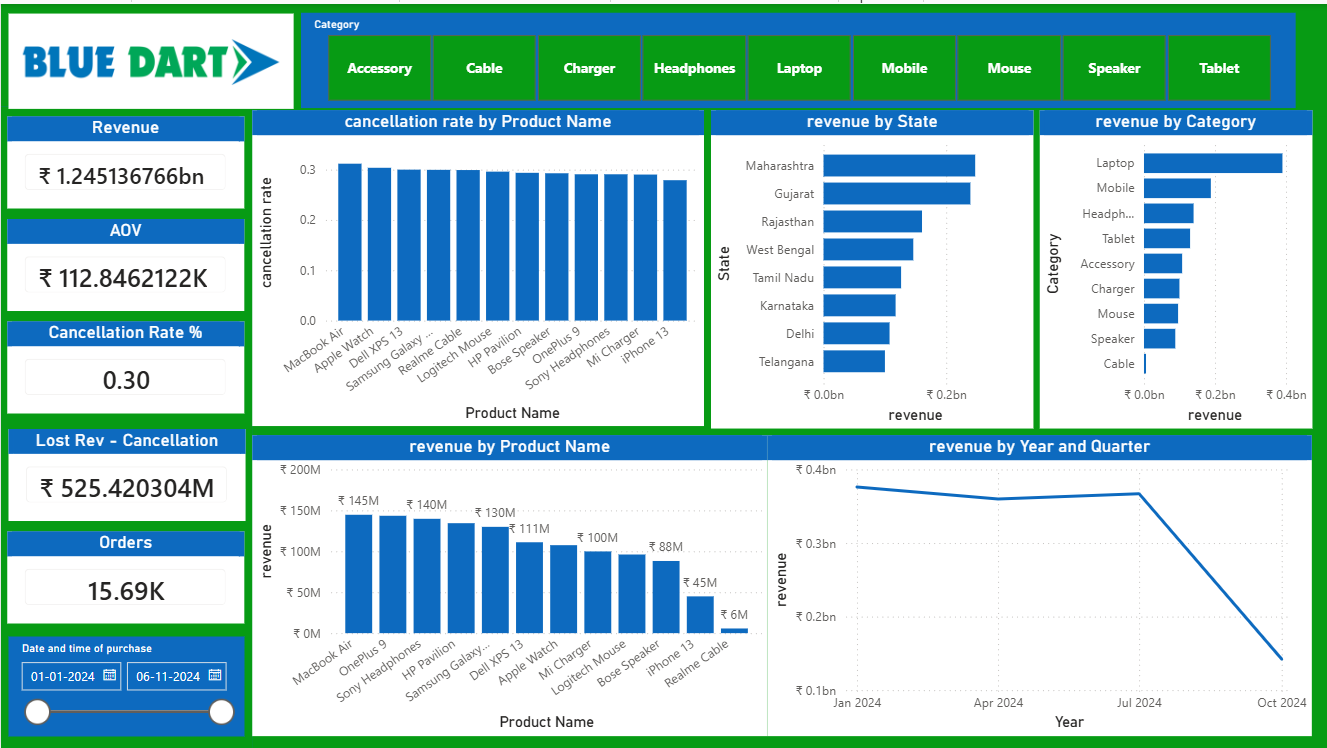

The page's visual inventory and layout, read from the dashboard file:
{"tool":"powerbi","page":{"name":"Page 1","canvas":[1280,720],"ordinal":0},"visuals":[{"type":"shape","box":[0,0,1280,108.6],"z":0},{"type":"shape","box":[0,98.8,242.5,621.2],"z":1000},{"type":"columnChart","fields":{"Category":["Products.Product Name"],"Y":["Table.revenue"]},"box":[242.9,415.7,497.1,290],"z":2000},{"type":"barChart","fields":{"Category":["Products.Category"],"Y":["Table.revenue"]},"box":[1002.9,102.9,262.9,307.1],"z":3000},{"type":"lineChart","fields":{"Y":["Table.revenue"],"Category":["Orders.Date and time of purchase.Variation.Date Hierarchy.Year","Orders.Date and time of purchase.Variation.Date Hierarchy.Quarter","Orders.Date and time of purchase.Variation.Date Hierarchy.Month","Orders.Date and time of purchase.Variation.Date Hierarchy.Day"]},"box":[740,415.7,525.7,290],"z":4000},{"type":"barChart","fields":{"Category":["Customers.State"],"Y":["Table.revenue"]},"box":[685.7,102.9,311.4,307.1],"z":5000},{"type":"slicer","fields":{"Values":["Products.Category"]},"box":[290,8,960,92],"z":6000},{"type":"cardVisual","title":"Revenue","fields":{"Data":["Table.revenue"]},"box":[6.2,108.8,228.8,88.8],"z":7000},{"type":"image","box":[6.7,5.6,275.6,97.8],"z":8000},{"type":"cardVisual","title":"AOV","fields":{"Data":["Table.AOV"]},"box":[6.2,207.5,228.8,88.8],"z":9000},{"type":"cardVisual","title":"Cancellation Rate %","fields":{"Data":["Table.cancellation rate"]},"box":[6.2,306.2,228.8,88.8],"z":10000},{"type":"cardVisual","title":"Lost Rev - Cancellation","fields":{"Data":["Table.lost_rev_cancellation"]},"box":[7.5,410,228.8,88.8],"z":11000},{"type":"cardVisual","title":"Orders","fields":{"Data":["CountNonNull(Orders.OrderID)"]},"box":[6.2,508.8,228.8,88.8],"z":12000},{"type":"slicer","fields":{"Values":["Orders.Date and time of purchase"]},"box":[7.1,610,227.1,95.7],"z":13000},{"type":"clusteredColumnChart","fields":{"Category":["Products.Product Name"],"Y":["Table.cancellation rate"]},"box":[242.5,102.5,436.2,305],"z":14000}]}

Visuals, with their boxes in screenshot pixels (x1, y1, x2, y2), scaled from the page's 1280x720 canvas onto the 1327x748 screenshot:
shape: [0,0,1326,113]
shape: [0,103,251,747]
columnChart - Products.Product Name x Table.revenue: [252,432,767,733]
barChart - Products.Category x Table.revenue: [1040,107,1312,426]
lineChart - Table.revenue x Orders.Date and time of purchase.Variation.Date Hierarchy.Year: [767,432,1312,733]
barChart - Customers.State x Table.revenue: [711,107,1034,426]
slicer - Products.Category: [301,8,1296,104]
"Revenue" cardVisual: [6,113,244,205]
image: [7,6,293,107]
"AOV" cardVisual: [6,216,244,308]
"Cancellation Rate %" cardVisual: [6,318,244,410]
"Lost Rev - Cancellation" cardVisual: [8,426,245,518]
"Orders" cardVisual: [6,529,244,621]
slicer - Orders.Date and time of purchase: [7,634,243,733]
clusteredColumnChart - Products.Product Name x Table.cancellation rate: [251,106,704,423]
